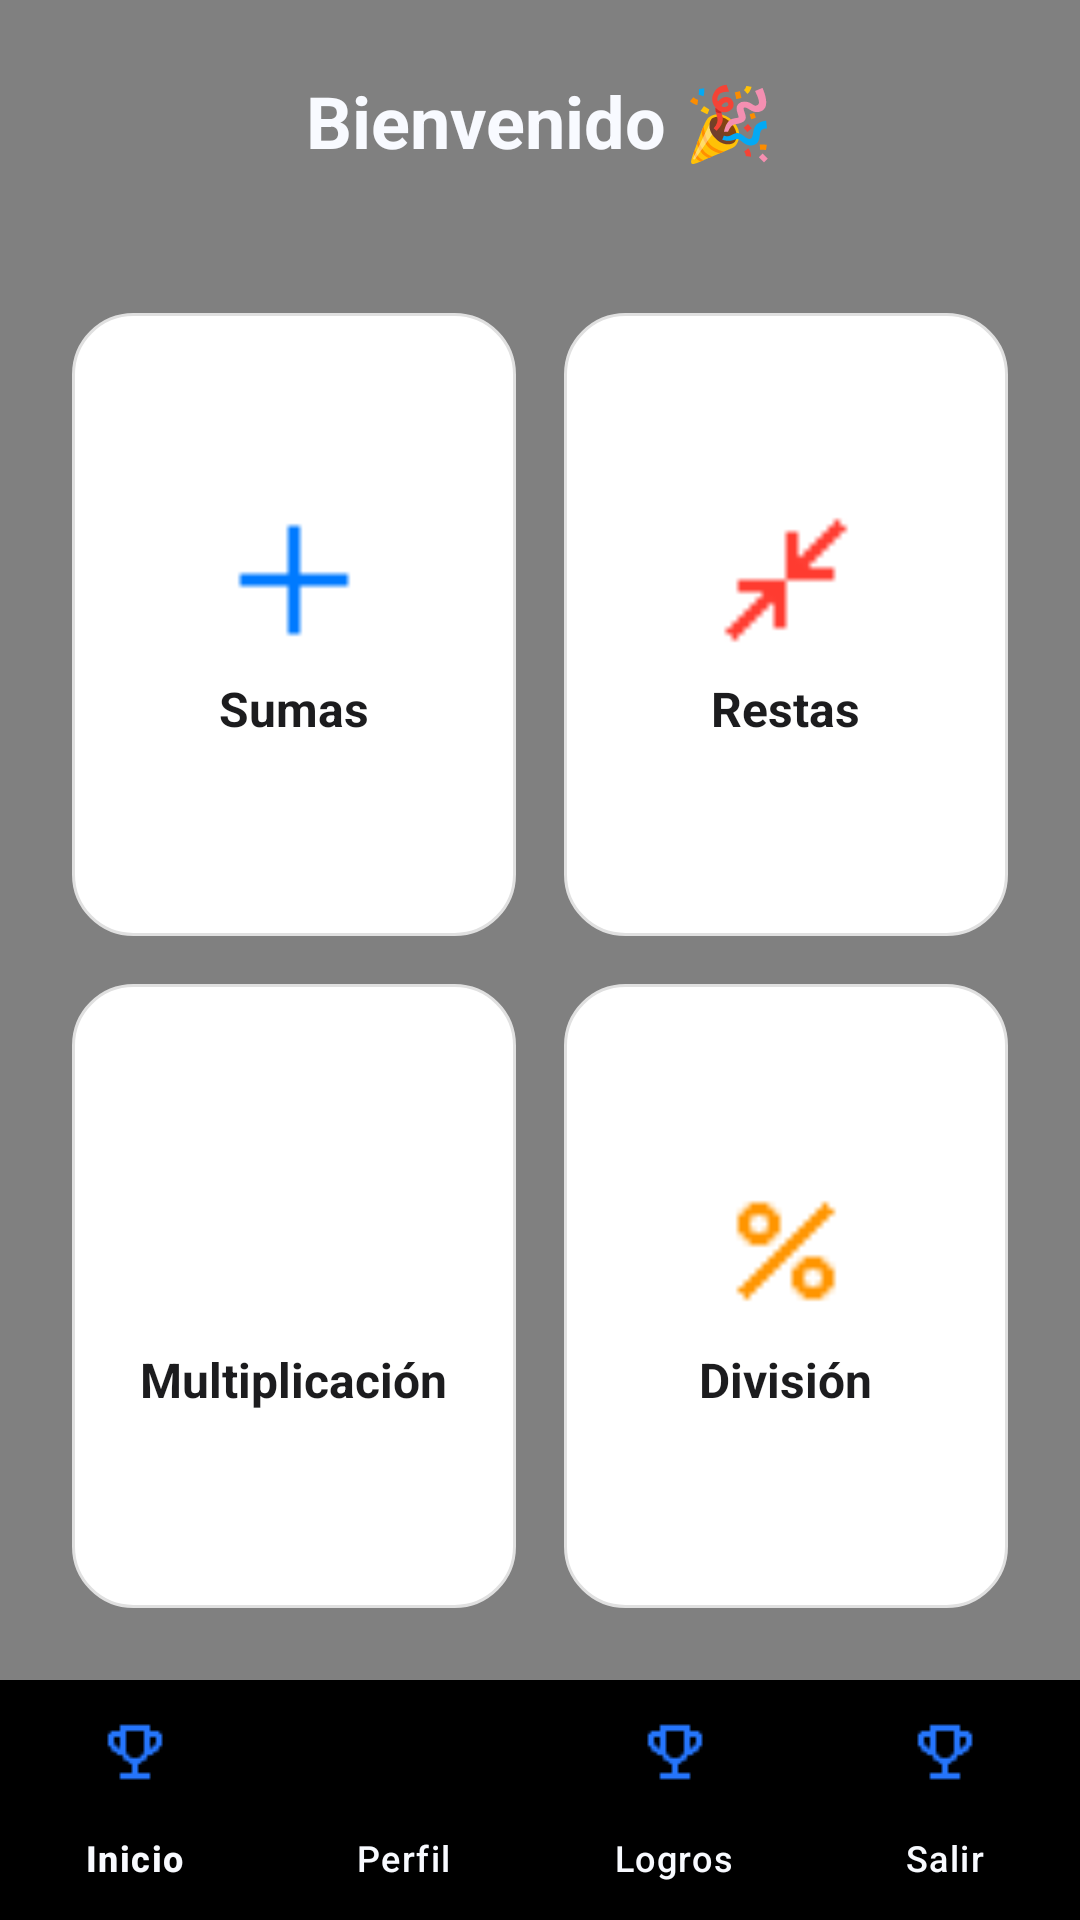

Locate icon controls on the screen. Image size 1080x1920, boxes as [x1=x1, y1=y1, x2=x2, y2=y2].
add: [x1=238, y1=524, x2=350, y2=636]
